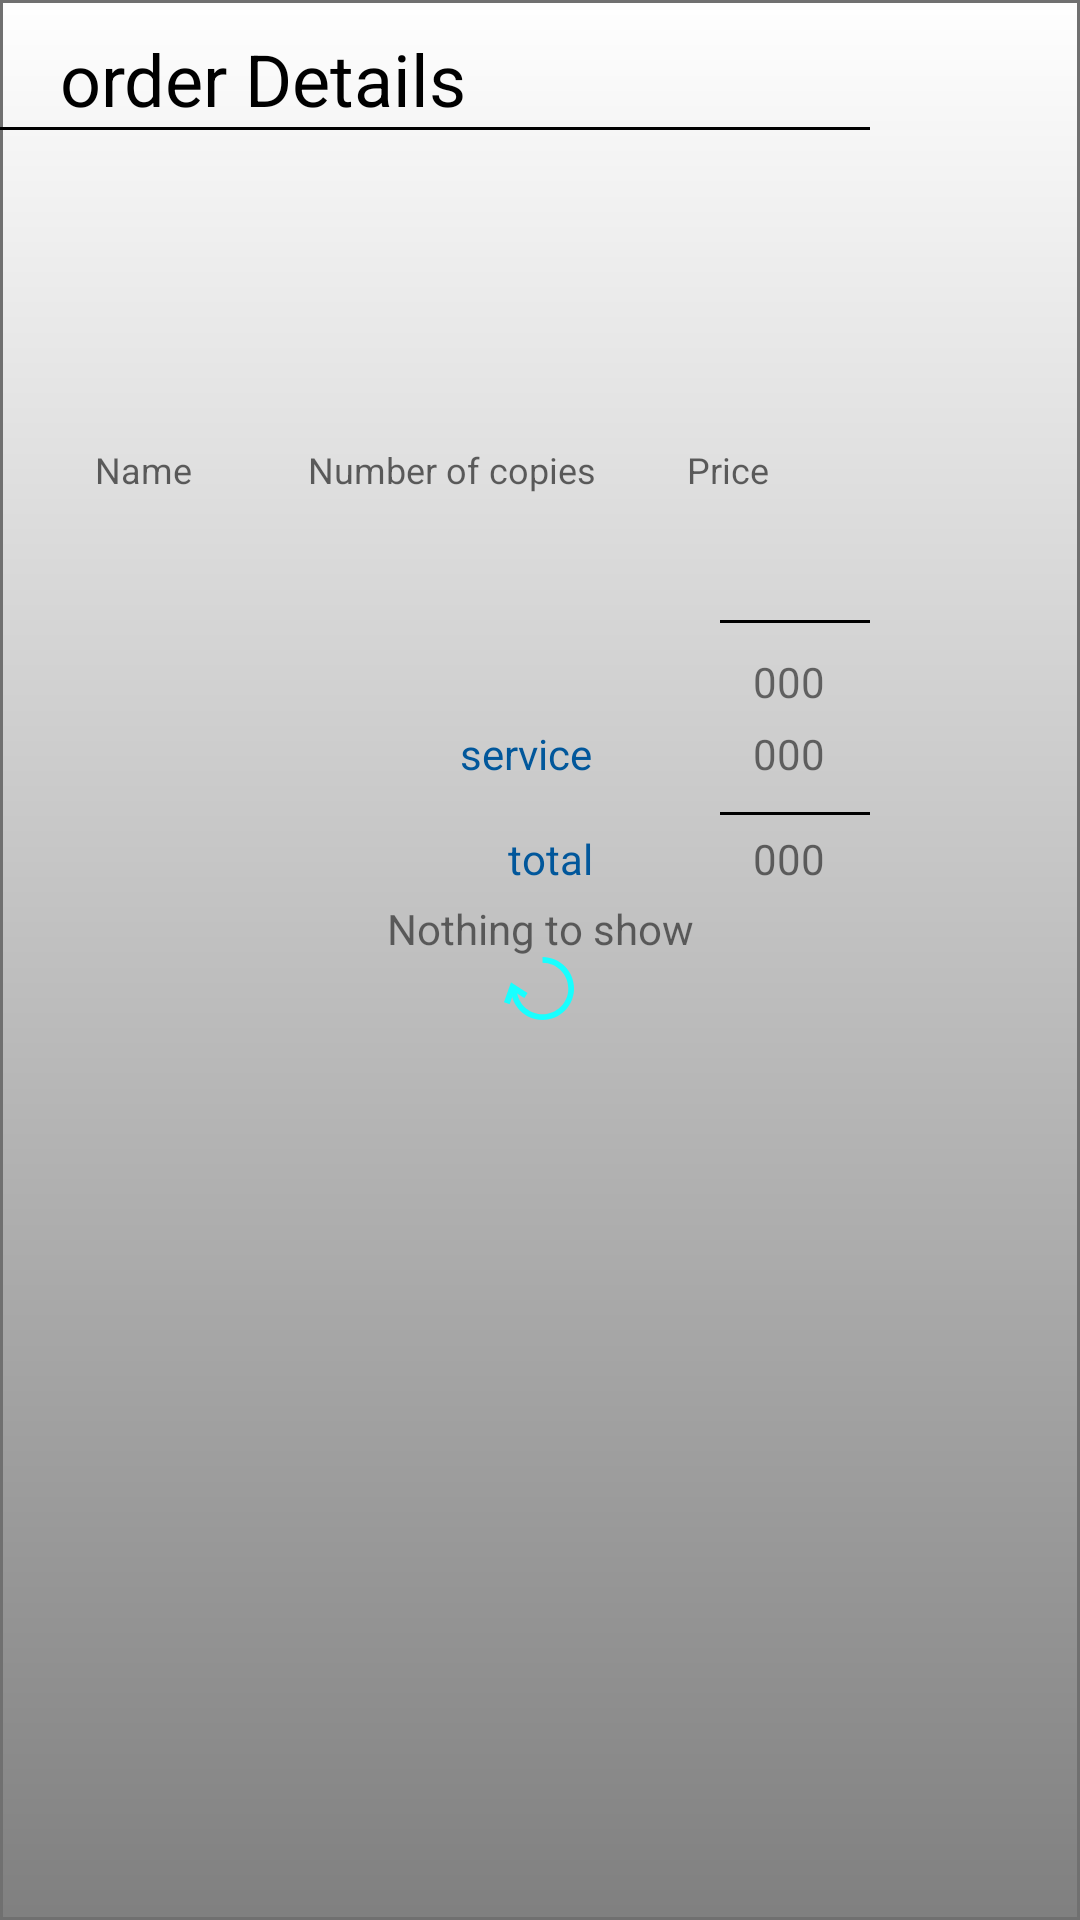

Where to tap for icons on this 1080 x 1920 app screen, as (x=x, y=y):
progress indicators circular: (x=539, y=988)
